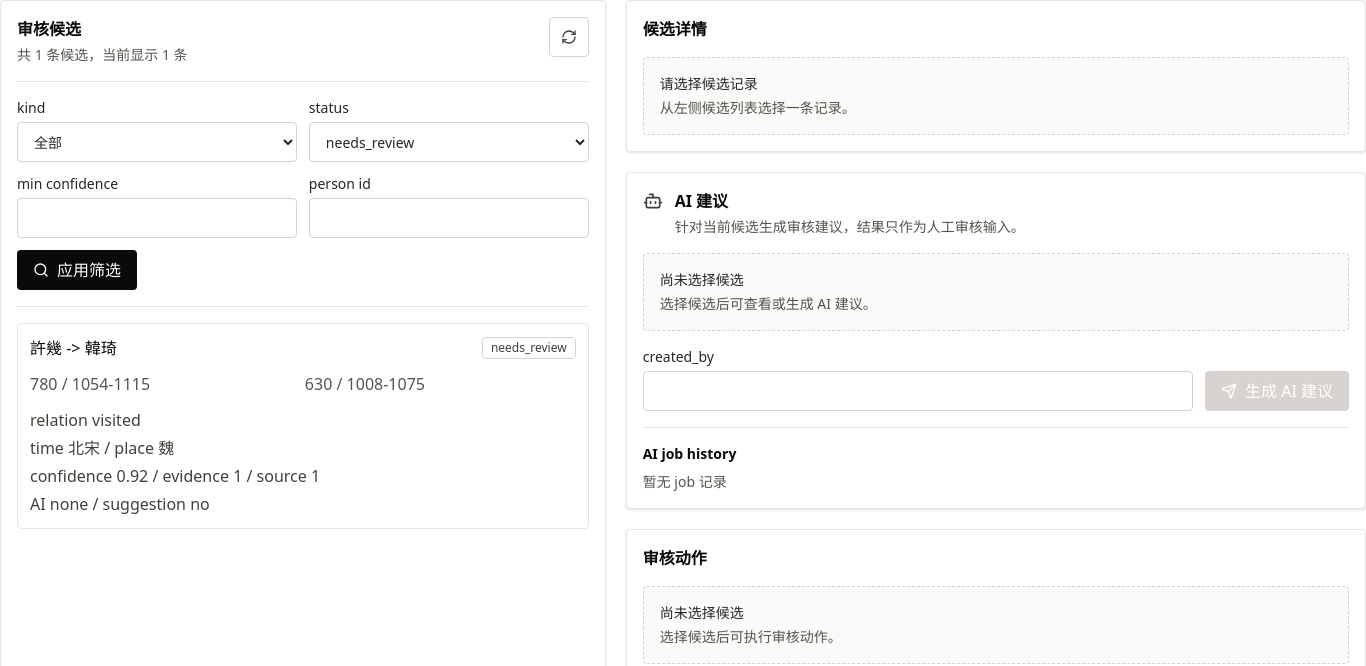
Scenario: ReviewWorkspace › loads candidates and selects a candidate detail
Expected: the text "許幾 -> 韓琦" is shown, [30,336,117,360]
Click the button named "relationship 960664": (74, 347) [17,323,589,529]
(page scrolled)
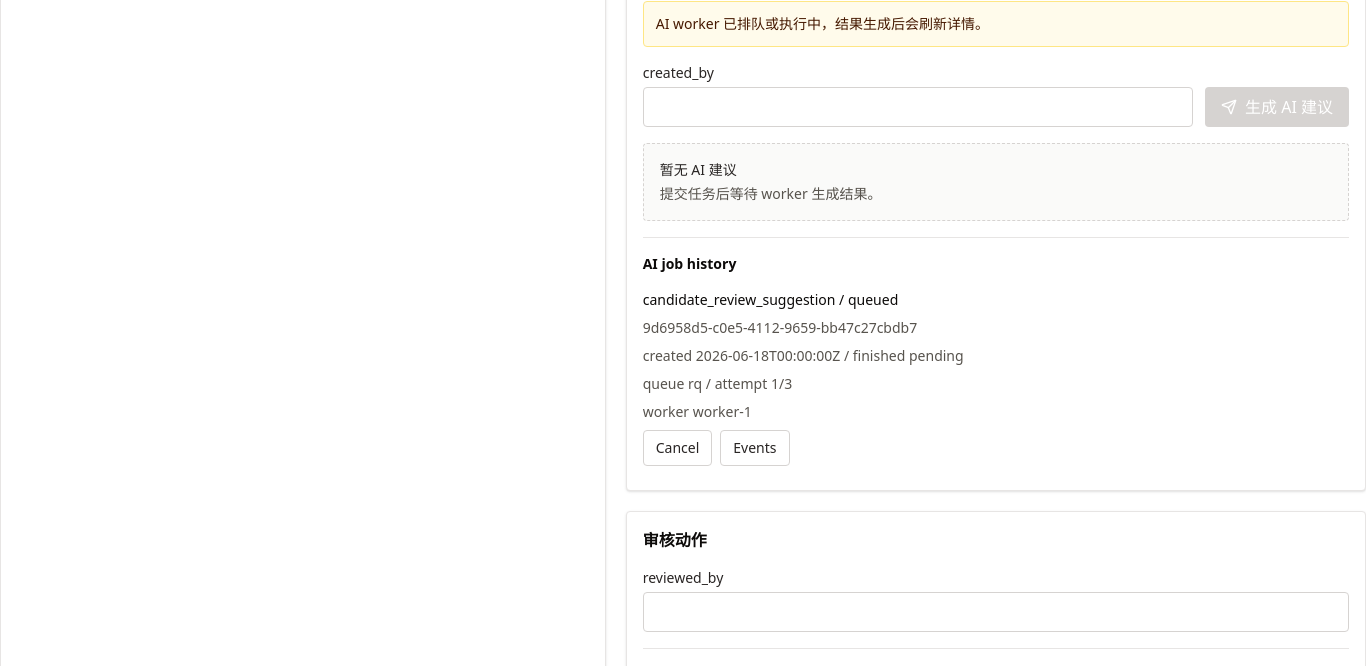
Expected: the heading "审核动作" is shown, [643,529,707,551]
Expected: the text "queue rq / attempt 1/3" is shown, [643,374,792,393]
